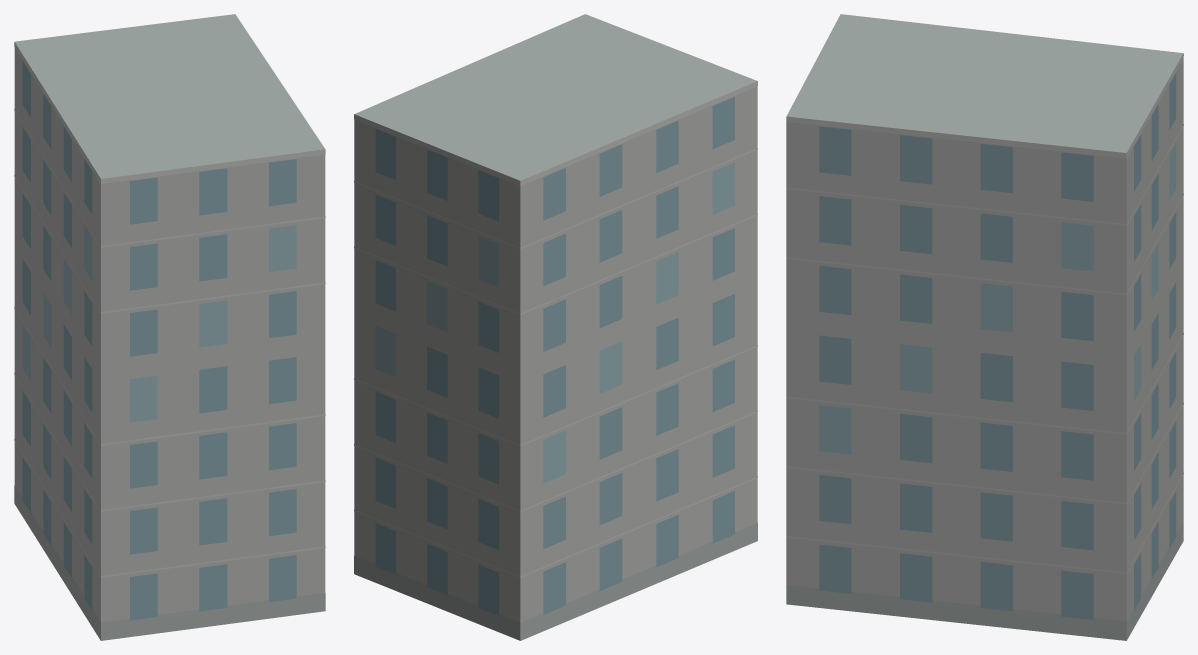
File: residential-10c91ac2-6cc6-48a8-b82c-bb28848ac21a.glb
The picture shows the model from 3 angles, left to right: view 1: azimuth 30°, elevation 25°; view 2: azimuth 150°, elevation 25°; view 3: azimuth 270°, elevation 25°; orthographic projection. The views are drawn at different scales.
Visible parts, largest first — view 1: residential-10c91ac2-6cc6-48a8-b82c-bb28848ac21a.tmp; view 2: residential-10c91ac2-6cc6-48a8-b82c-bb28848ac21a.tmp; view 3: residential-10c91ac2-6cc6-48a8-b82c-bb28848ac21a.tmp.
Boxes of the visible parts, <box> form: residential-10c91ac2-6cc6-48a8-b82c-bb28848ac21a.tmp: <box>14,14,325,640</box>; residential-10c91ac2-6cc6-48a8-b82c-bb28848ac21a.tmp: <box>354,14,757,640</box>; residential-10c91ac2-6cc6-48a8-b82c-bb28848ac21a.tmp: <box>786,14,1183,640</box>.
Size of the model in its own units: 13.08 by 21.35 by 15.78.
